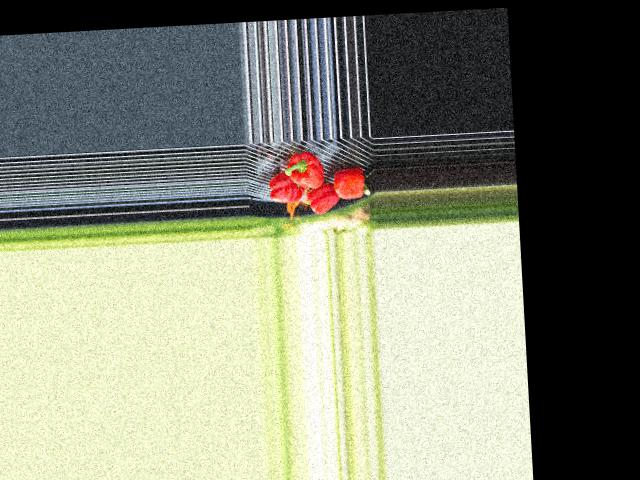bell_pepper: (267, 172, 305, 205)
